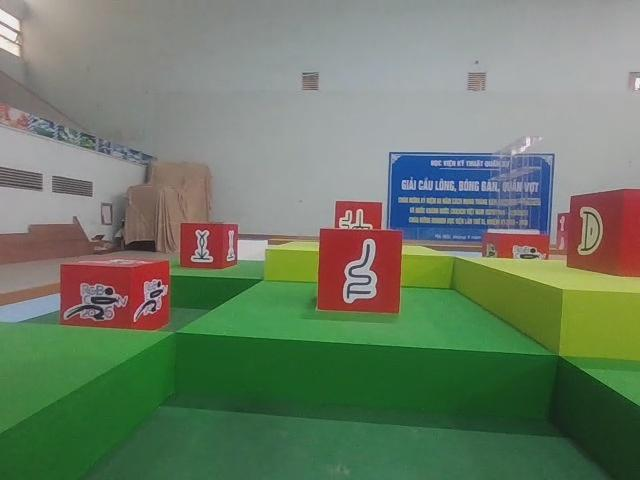R1: (57, 253, 173, 339)
R2 Fake: (315, 224, 406, 316)
R2 Real: (563, 183, 640, 281), (176, 218, 241, 271), (329, 197, 384, 245)
